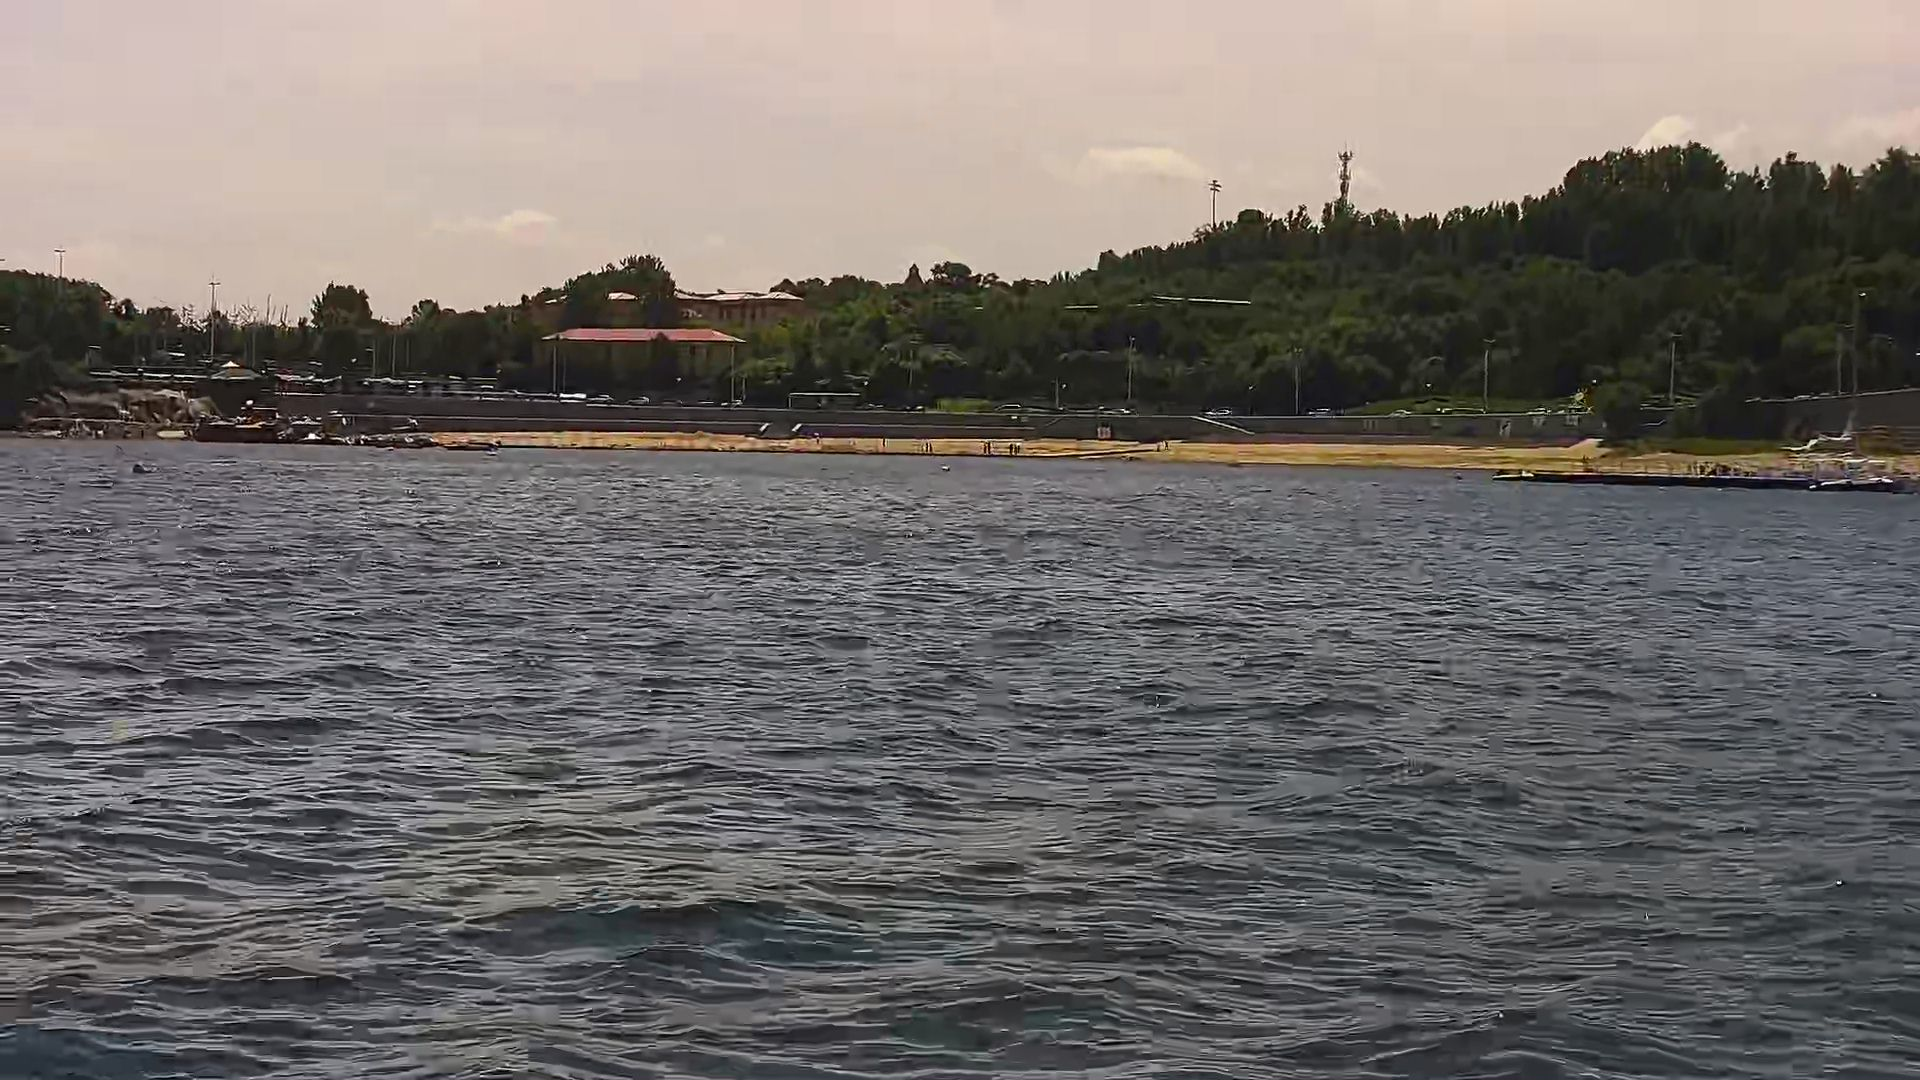harbor: (1491, 465, 1886, 495)
